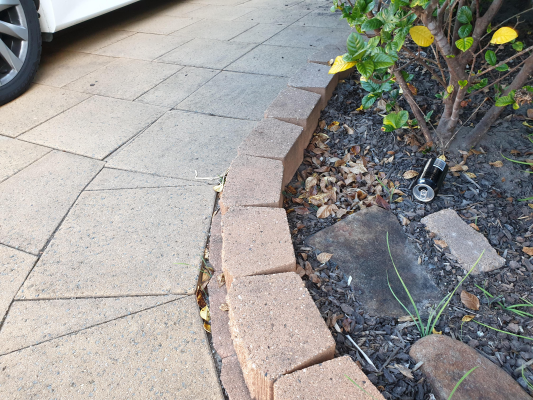Plastic Bottle: (412, 158, 448, 203)
